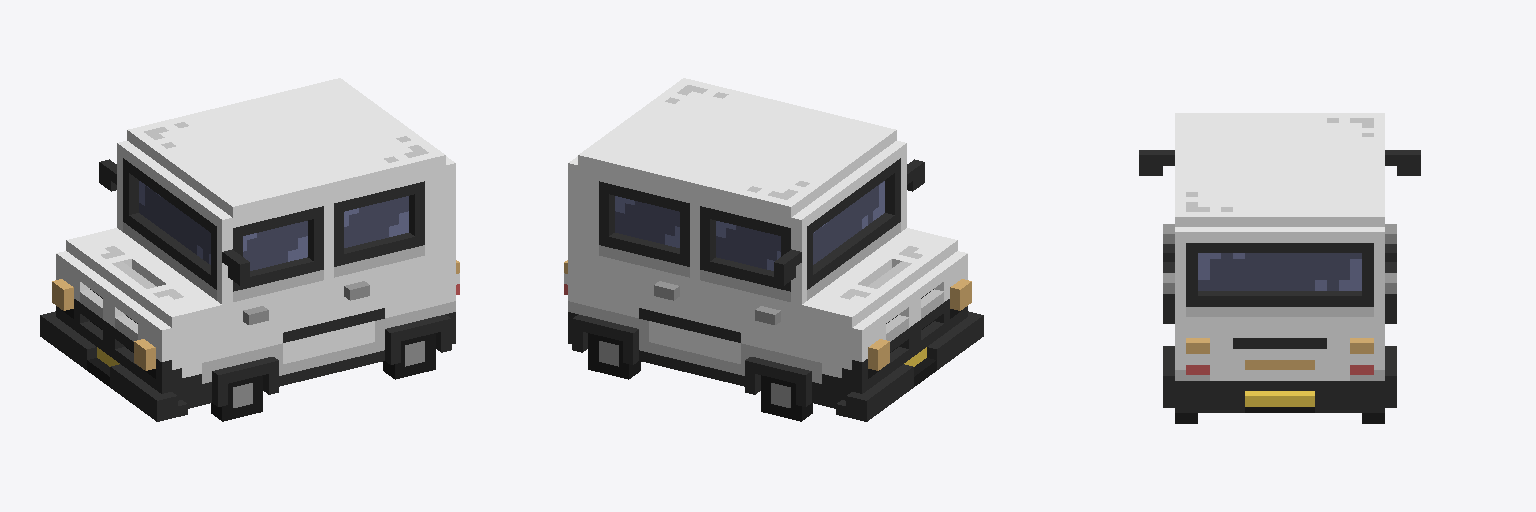
3 views of the same model, side by side, from view 1: azimuth 30°, elevation 25°; view 2: azimuth 150°, elevation 25°; view 3: azimuth 270°, elevation 25° (orthographic).
Visible parts, largest first — view 1: Box_89; view 2: Box_89; view 3: Box_89.
Part boxes in pixels (x1,y1,x2,y2): Box_89: (40,78,459,421); Box_89: (564,78,983,421); Box_89: (1139,113,1420,423).
Size of the model in its own units: 31 by 20 by 24.
1 materials, 1 textured.